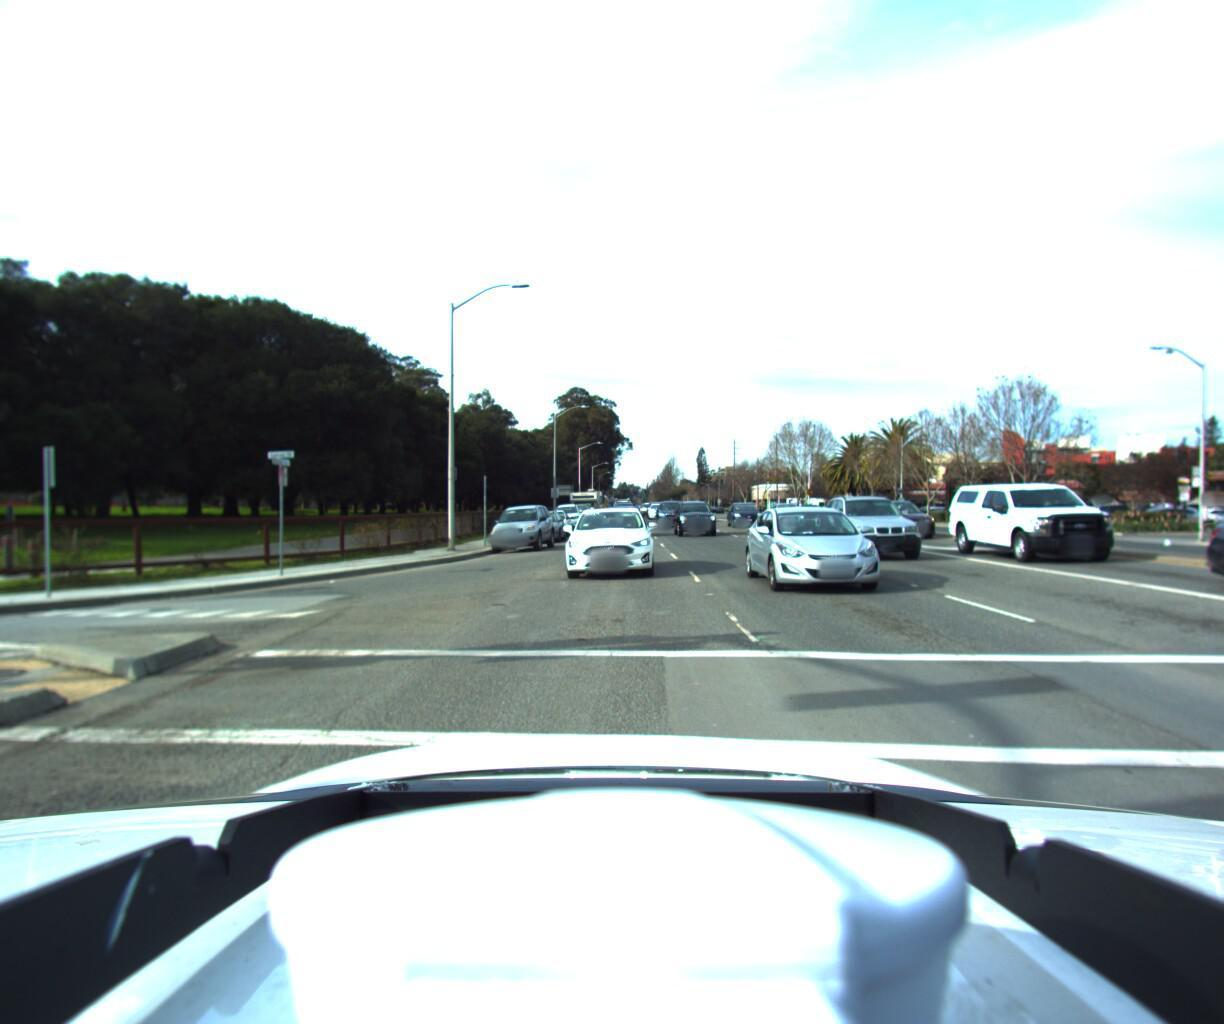car: (948, 471, 1147, 562), (741, 500, 900, 594), (827, 488, 945, 563), (561, 503, 656, 585), (480, 502, 553, 553), (862, 498, 950, 540), (513, 506, 565, 540), (672, 500, 719, 537), (546, 501, 585, 530), (726, 503, 766, 530), (654, 502, 685, 529), (642, 501, 664, 519), (1223, 493, 1224, 631)
other_vehicle: (562, 488, 601, 521)
